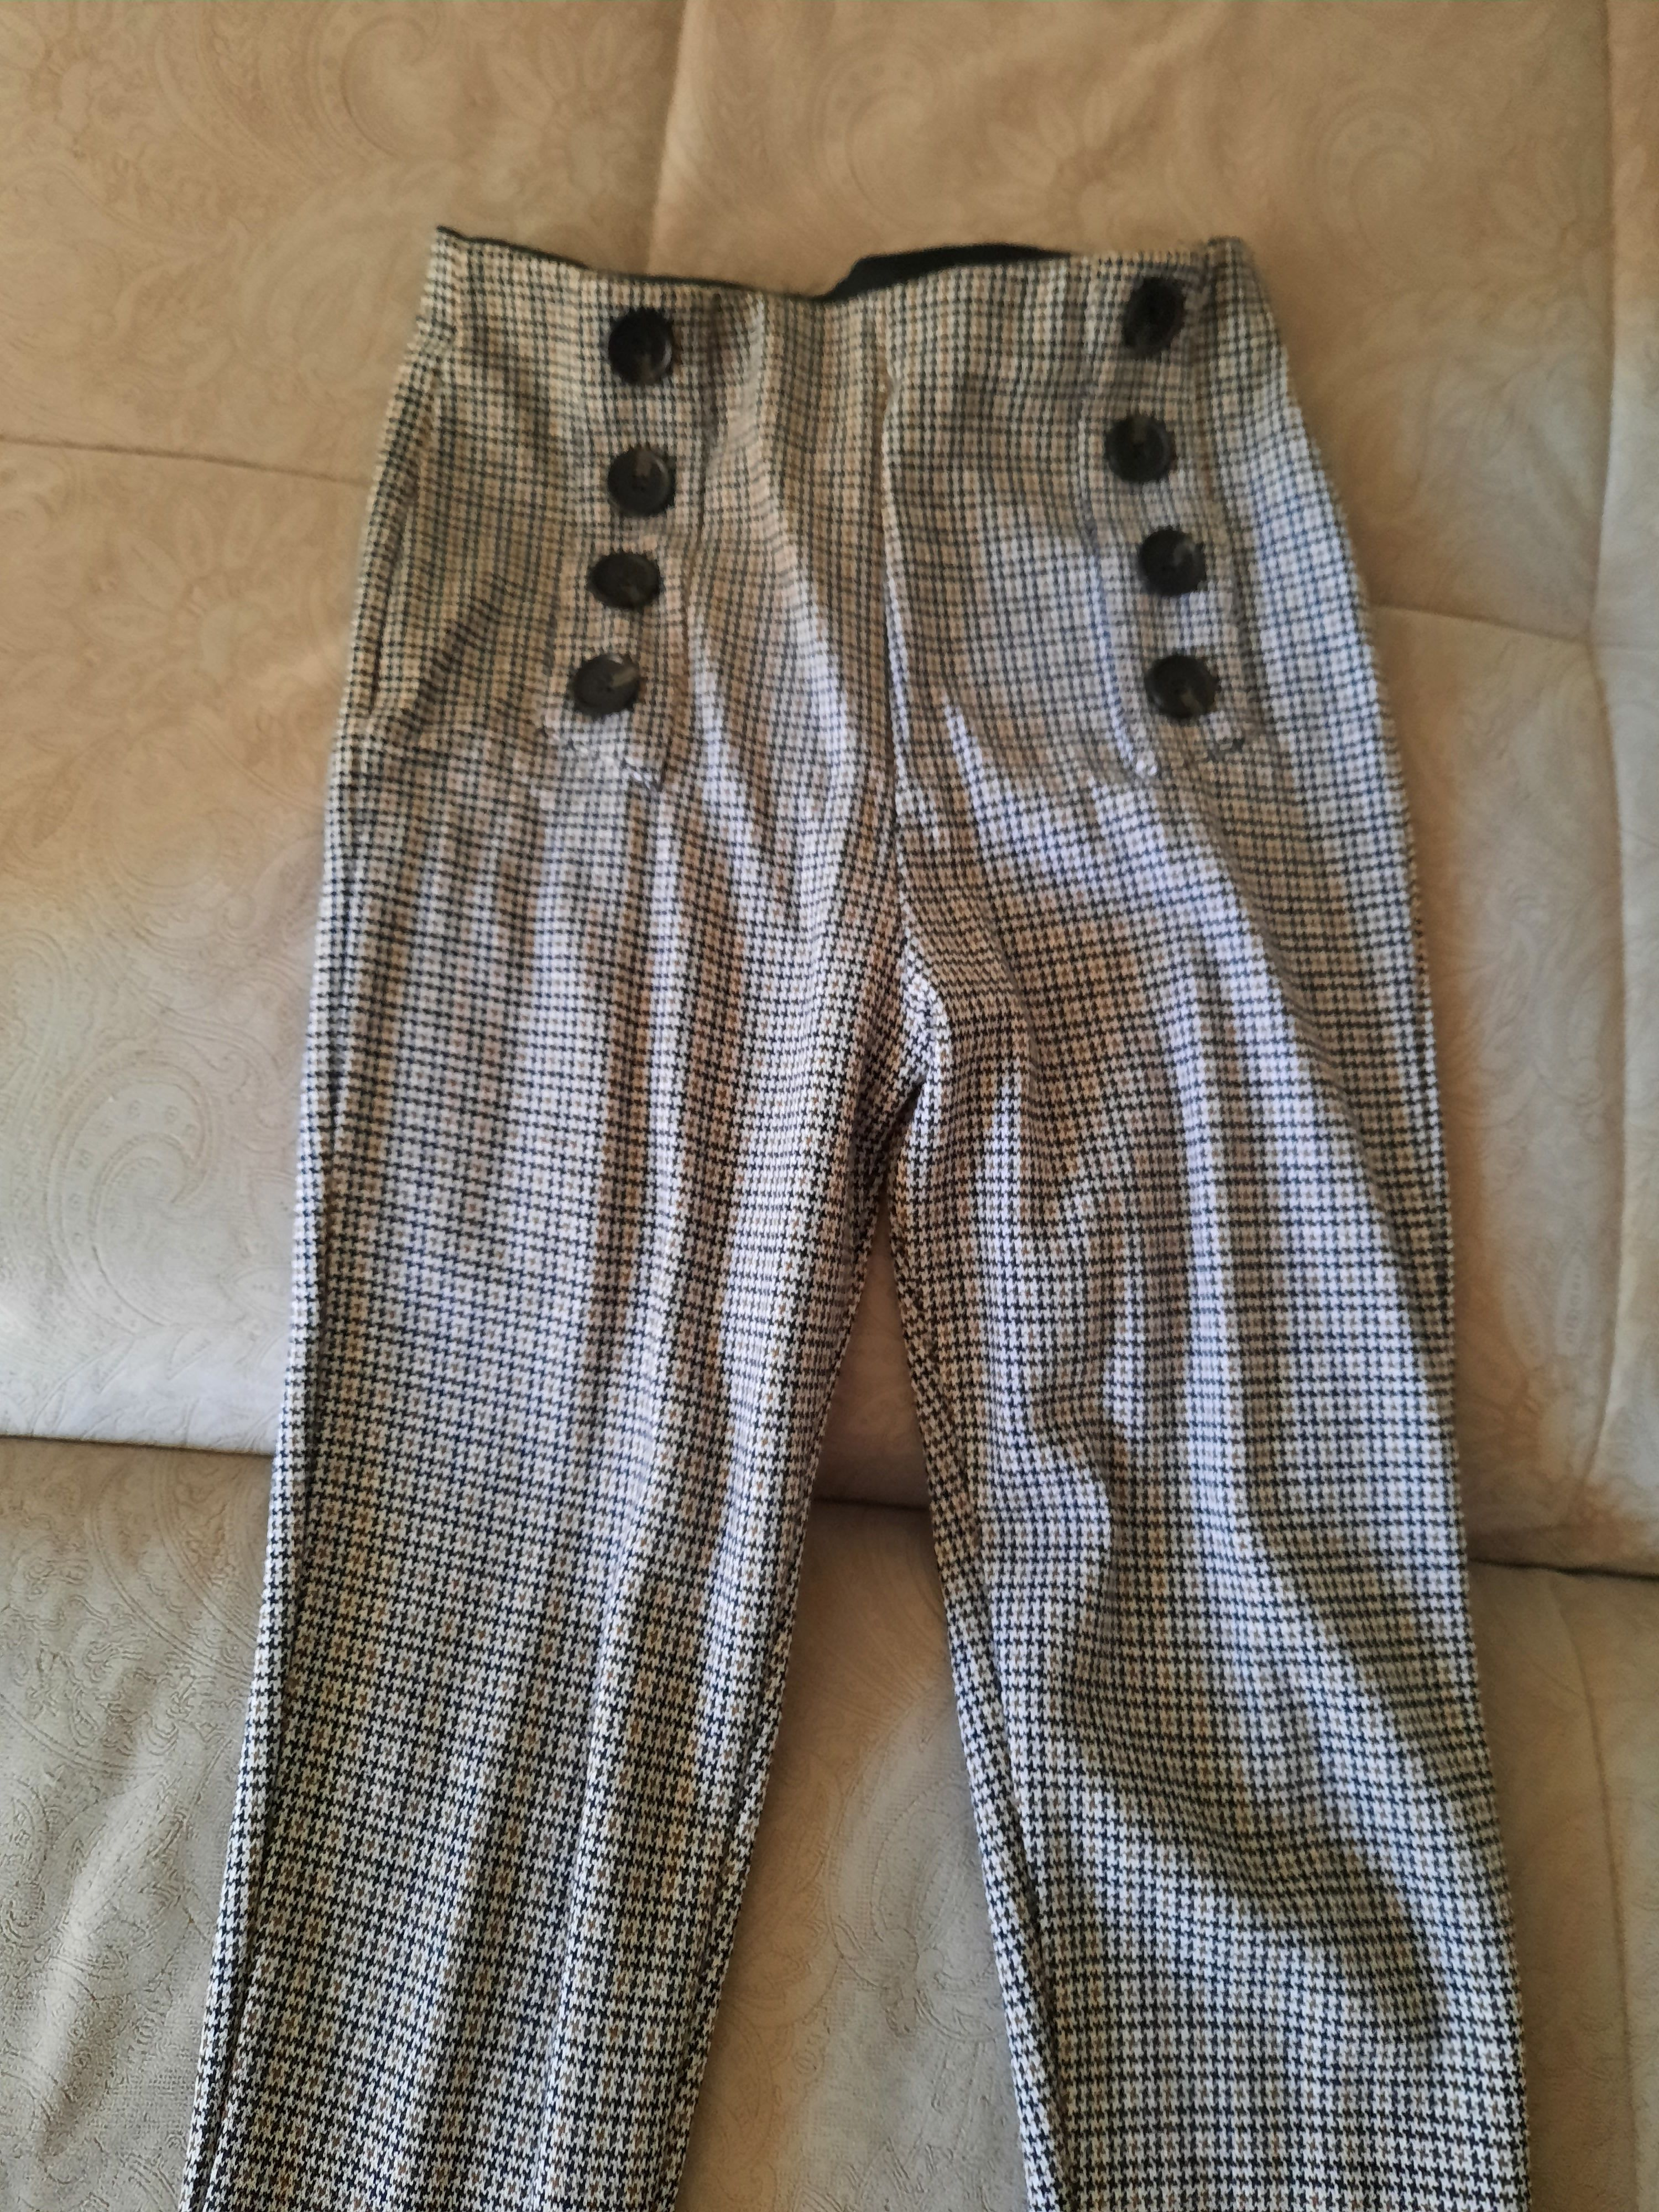clothes: (181, 206, 1535, 2212)
